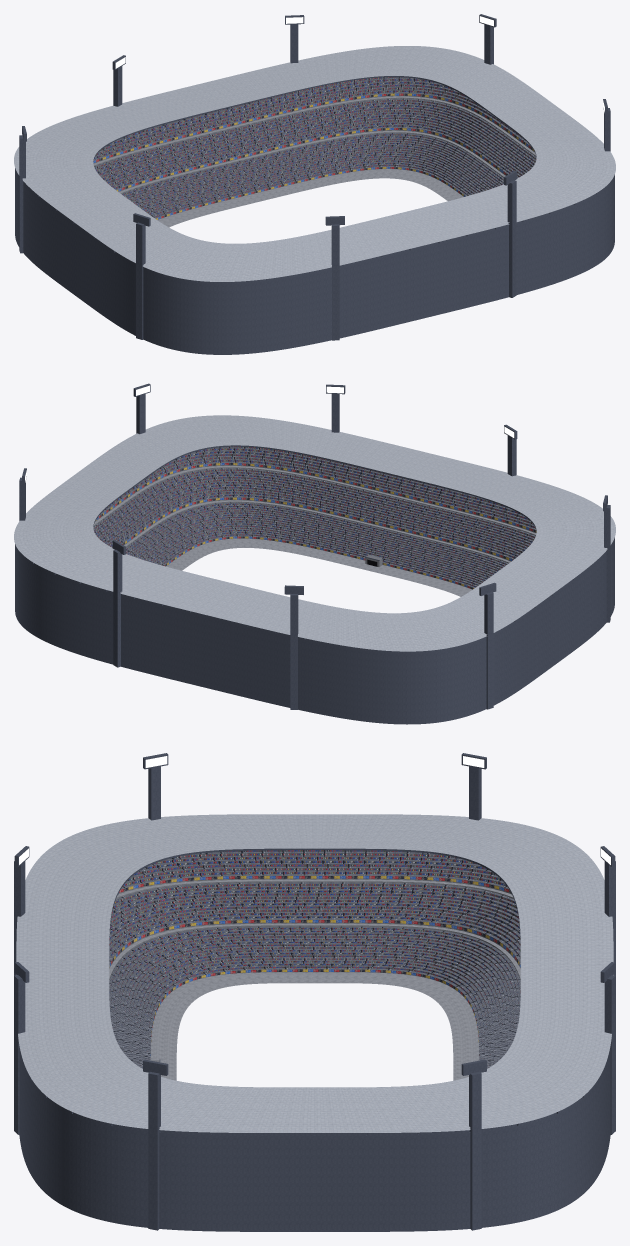
Rendered from Stadium.glb.
The picture shows the model from 3 angles, top to bottom: view 1: azimuth 30°, elevation 25°; view 2: azimuth 150°, elevation 25°; view 3: azimuth 270°, elevation 25°; orthographic projection. The views are drawn at different scales.
Parts seen in each view (by area): view 1: metal_2, metal_1, metal_3, crowd_6, crowd_7, crowd_5, roof_3, roof_0, roof_4, roof_1, roof_2, roof_7 (+14 smaller); view 2: metal_5, metal_6, metal_4, crowd_1, crowd_0, crowd_2, roof_4, roof_3, roof_7, roof_5, roof_0, roof_6 (+14 smaller); view 3: metal_0, metal_7, crowd_3, crowd_4, roof_0, roof_7, roof_3, roof_4, roof_5, roof_1, roof_2, roof_6 (+14 smaller).
Boxes of the visible parts, x1=… form: metal_2: x1=240, y1=216, x2=420, y2=354; metal_1: x1=420, y1=170, x2=591, y2=319; metal_3: x1=74, y1=213, x2=239, y2=354; crowd_6: x1=219, y1=77, x2=386, y2=190; crowd_7: x1=372, y1=77, x2=527, y2=196; crowd_5: x1=94, y1=110, x2=256, y2=218; roof_3: x1=73, y1=203, x2=251, y2=281; roof_0: x1=495, y1=105, x2=615, y2=195; roof_4: x1=14, y1=132, x2=132, y2=221; roof_1: x1=388, y1=178, x2=591, y2=245; roof_2: x1=240, y1=216, x2=420, y2=281; roof_7: x1=378, y1=46, x2=554, y2=115; metal_5: x1=201, y1=585, x2=389, y2=723; metal_6: x1=38, y1=540, x2=200, y2=686; metal_4: x1=390, y1=582, x2=552, y2=724; crowd_1: x1=243, y1=447, x2=418, y2=558; crowd_0: x1=103, y1=446, x2=257, y2=565; crowd_2: x1=381, y1=482, x2=535, y2=588; roof_4: x1=378, y1=574, x2=552, y2=651; roof_3: x1=494, y1=502, x2=615, y2=593; roof_7: x1=14, y1=474, x2=133, y2=564; roof_5: x1=201, y1=584, x2=389, y2=650; roof_0: x1=76, y1=415, x2=251, y2=485; roof_6: x1=38, y1=548, x2=235, y2=613; metal_0: x1=42, y1=1059, x2=314, y2=1231; metal_7: x1=315, y1=1059, x2=587, y2=1231; crowd_3: x1=109, y1=850, x2=319, y2=995; crowd_4: x1=318, y1=850, x2=520, y2=995; roof_0: x1=41, y1=1056, x2=314, y2=1132; roof_7: x1=315, y1=1056, x2=588, y2=1132; roof_3: x1=41, y1=814, x2=320, y2=879; roof_4: x1=318, y1=814, x2=588, y2=879; roof_5: x1=504, y1=856, x2=613, y2=975; roof_1: x1=18, y1=966, x2=125, y2=1090; roof_2: x1=16, y1=856, x2=125, y2=969; roof_6: x1=504, y1=970, x2=611, y2=1090.
Size of the model in its own units: 1156 by 280 by 927.
7 materials, 6 textured.
